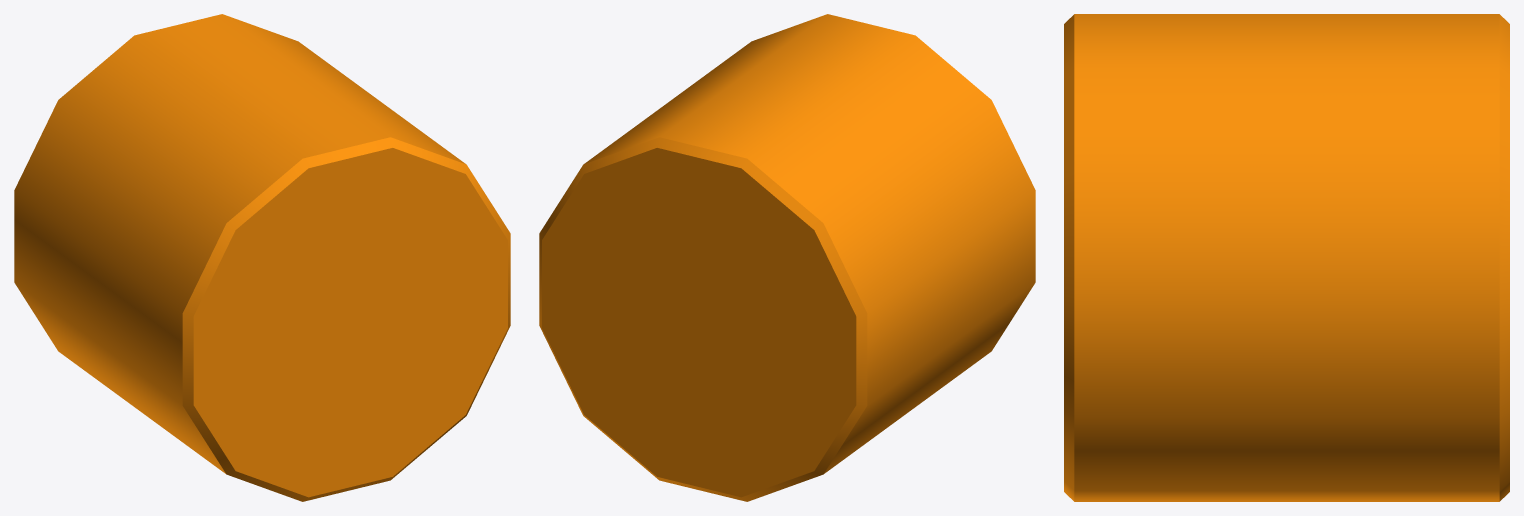
The model's file is Fix2_.fbx.
3 renders of one model, left to right at view 1: azimuth 30°, elevation 25°; view 2: azimuth 150°, elevation 25°; view 3: azimuth 270°, elevation 25°, orthographic. The views are drawn at different scales.
Visible parts, largest first — view 1: Fix2_; view 2: Fix2_; view 3: Fix2_.
Boxes of the visible parts, x1,y1,x2,y2 form: Fix2_: (14,14,510,501); Fix2_: (539,14,1035,501); Fix2_: (1064,14,1509,501).
Size of the model in its own units: 0.5271 by 0.491 by 0.5271.
